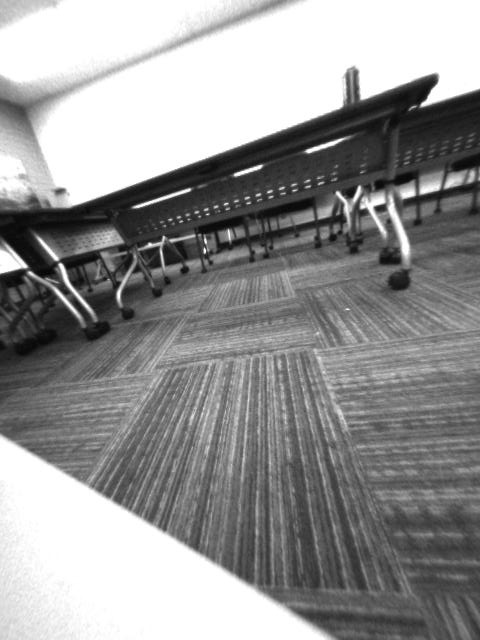can: (338, 65, 365, 107)
